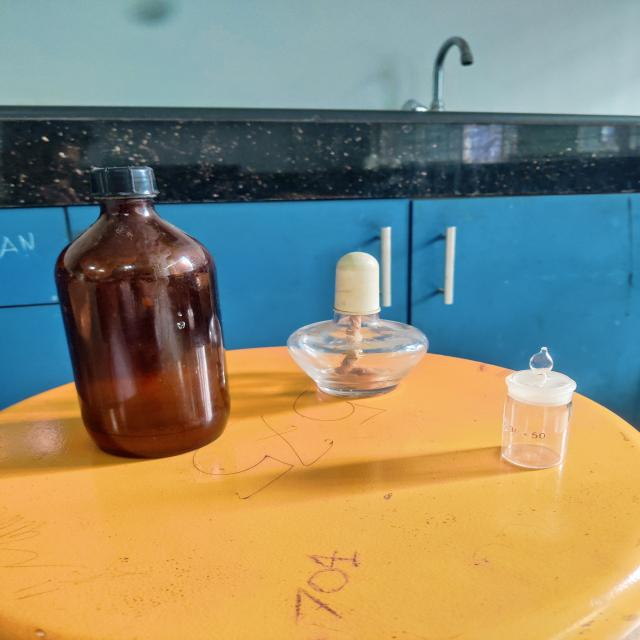Nessler_Reagent_Bottle: (49, 153, 261, 475)
Spirit_Lamp: (276, 238, 448, 410)
Weighing_Bottle: (486, 339, 584, 484)
